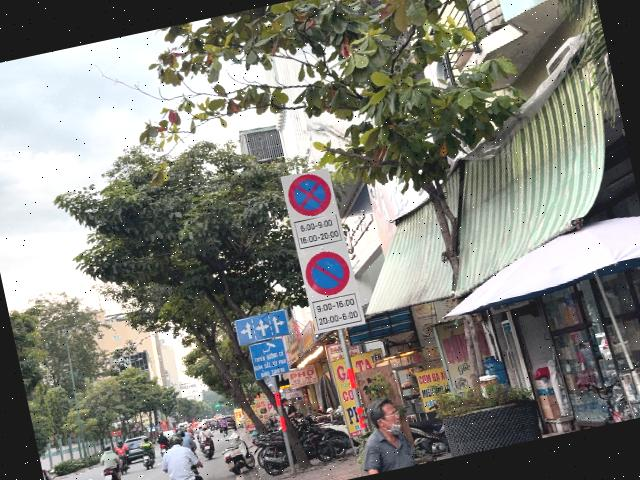cam-do-xe: (302, 248, 354, 300)
cam-dung-va-do-xe: (284, 170, 334, 220)
